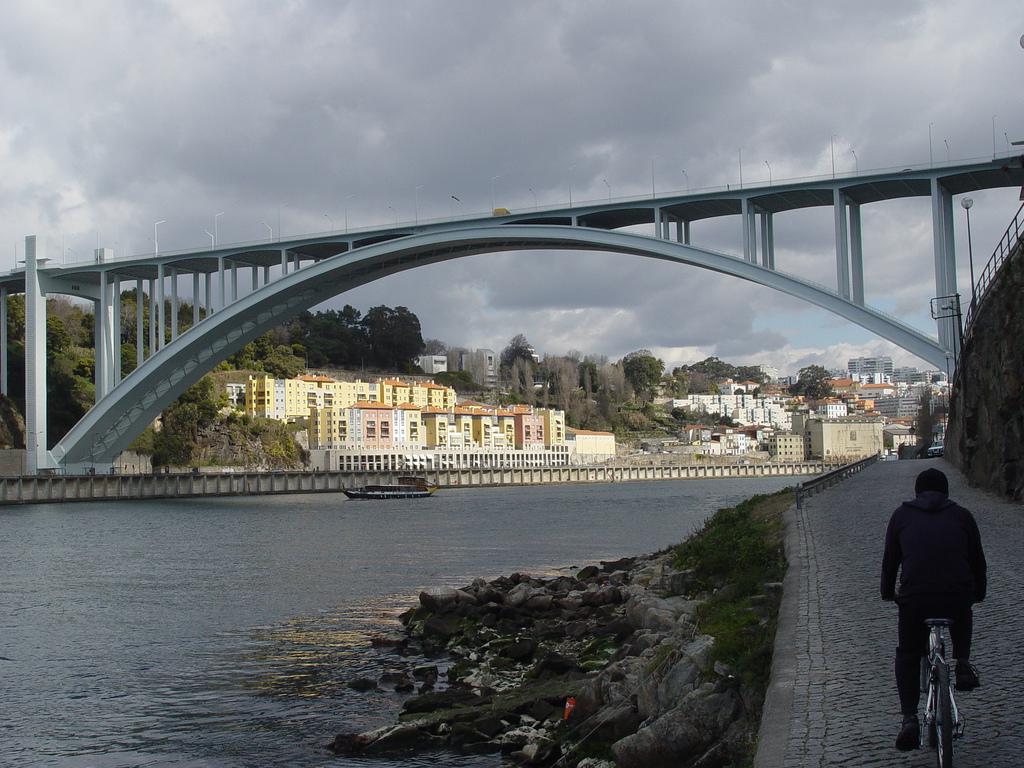arrabida: (0, 149, 1023, 478)
